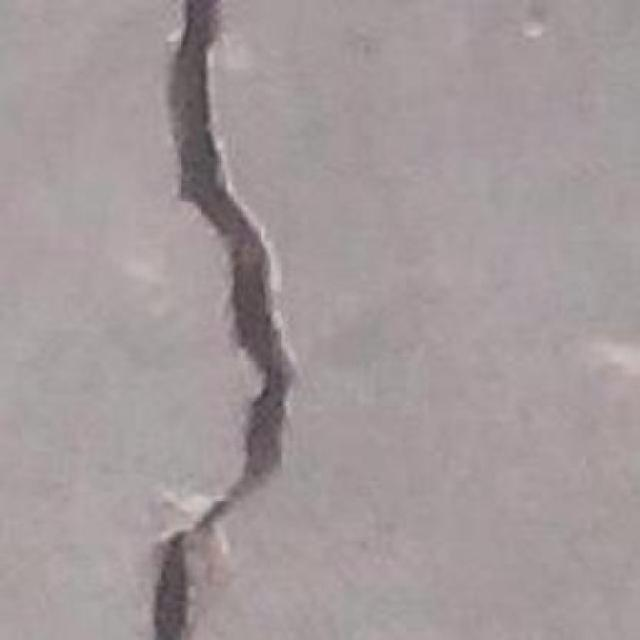crack: (114, 0, 332, 640)
